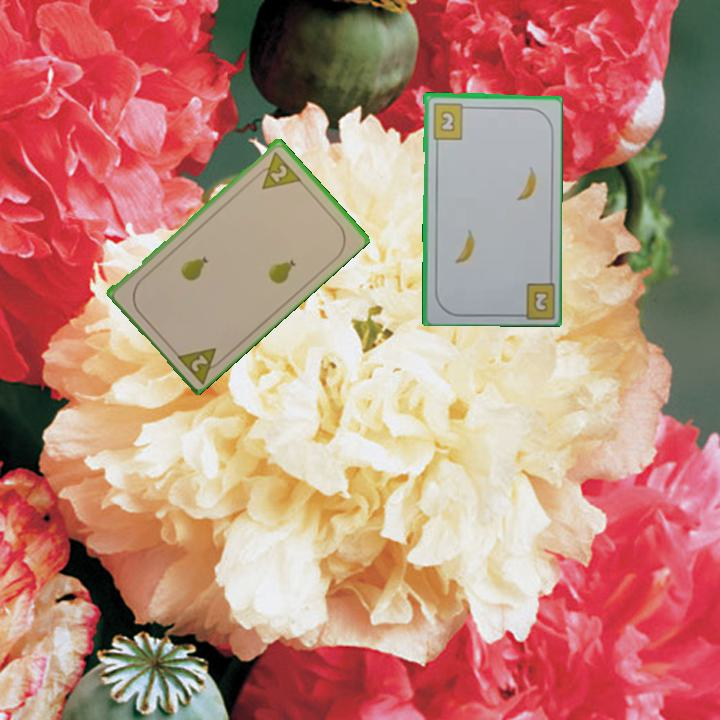2b: (429, 99, 471, 141), (530, 287, 551, 315)
2p: (172, 343, 228, 386), (251, 148, 303, 192)
